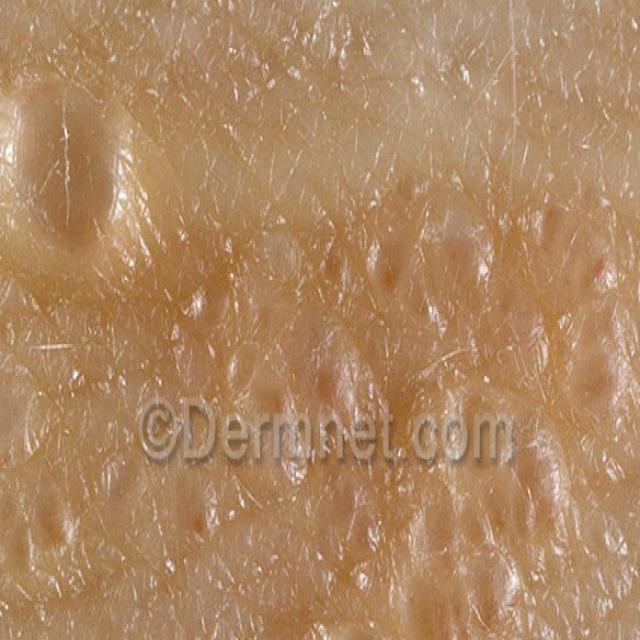Vascular Tumors: (167, 194, 640, 386), (222, 482, 640, 640), (0, 38, 136, 279), (0, 302, 100, 621)
